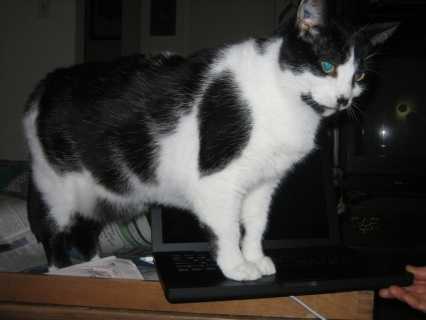Cat: (19, 0, 402, 282)
